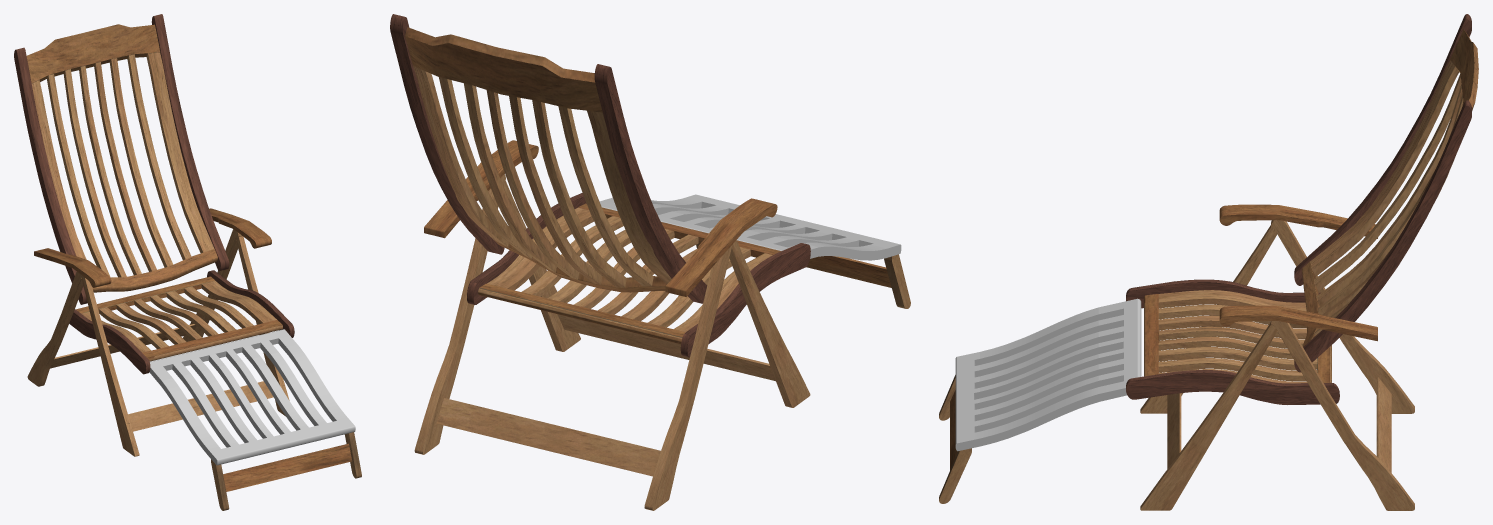
The model's file is Deck Chair.fbx.
The picture shows the model from 3 angles, left to right: view 1: azimuth 30°, elevation 25°; view 2: azimuth 150°, elevation 25°; view 3: azimuth 270°, elevation 25°; orthographic projection. The views are drawn at different scales.
Parts seen in each view (by area): view 1: M_Base_Top, B_Base_Bottom, M_Legs, M_Base_Middle, M_Base_Top_Side, M_Base_Middle_Side; view 2: M_Base_Top, M_Legs, M_Base_Middle, M_Base_Top_Side, B_Base_Bottom, M_Base_Middle_Side; view 3: M_Legs, B_Base_Bottom, M_Base_Top, M_Base_Middle, M_Base_Top_Side, M_Base_Middle_Side.
Part boxes in pixels (bbox=[...]): M_Base_Top: bbox=[26, 24, 217, 292]; B_Base_Bottom: bbox=[149, 329, 355, 465]; M_Legs: bbox=[27, 208, 361, 510]; M_Base_Middle: bbox=[76, 276, 282, 361]; M_Base_Top_Side: bbox=[14, 14, 229, 304]; M_Base_Middle_Side: bbox=[69, 270, 294, 374]; M_Base_Top: bbox=[405, 27, 671, 292]; M_Legs: bbox=[414, 140, 910, 510]; M_Base_Middle: bbox=[478, 203, 780, 344]; M_Base_Top_Side: bbox=[390, 14, 707, 303]; B_Base_Bottom: bbox=[599, 194, 901, 260]; M_Base_Middle_Side: bbox=[467, 193, 810, 357]; M_Legs: bbox=[939, 204, 1414, 510]; B_Base_Bottom: bbox=[955, 298, 1141, 451]; M_Base_Top: bbox=[1302, 29, 1478, 346]; M_Base_Middle: bbox=[1144, 290, 1331, 383]; M_Base_Top_Side: bbox=[1294, 14, 1471, 372]; M_Base_Middle_Side: bbox=[1126, 279, 1339, 404].
Size of the model in its own units: 91.31 by 154 by 188.
